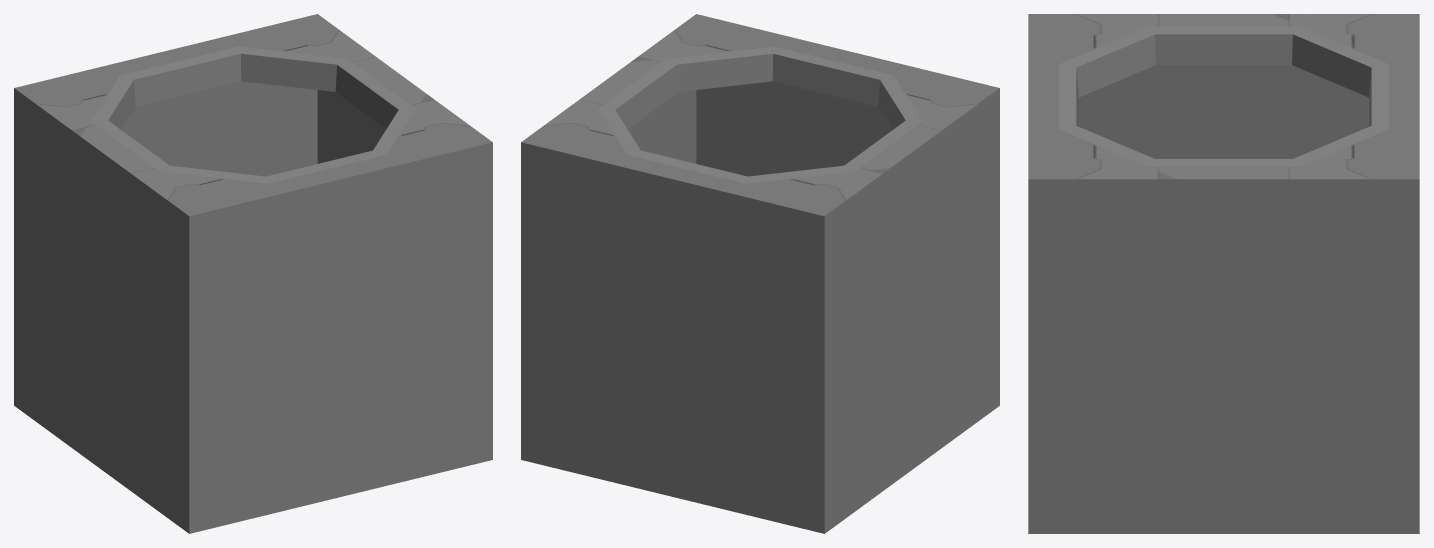
Rendered from SM_Floor_5x5_2.fbx.
3 renders of one model, left to right at view 1: azimuth 30°, elevation 25°; view 2: azimuth 150°, elevation 25°; view 3: azimuth 270°, elevation 25°, orthographic. The views are drawn at different scales.
Parts seen in each view (by area): view 1: SM_Floor_5x5_2; view 2: SM_Floor_5x5_2; view 3: SM_Floor_5x5_2.
Boxes of the visible parts, <box> form: SM_Floor_5x5_2: <box>14,14,492,533</box>; SM_Floor_5x5_2: <box>521,14,999,533</box>; SM_Floor_5x5_2: <box>1028,14,1419,533</box>.
Bounding box in the file's own units: 500 × 500 × 500.
